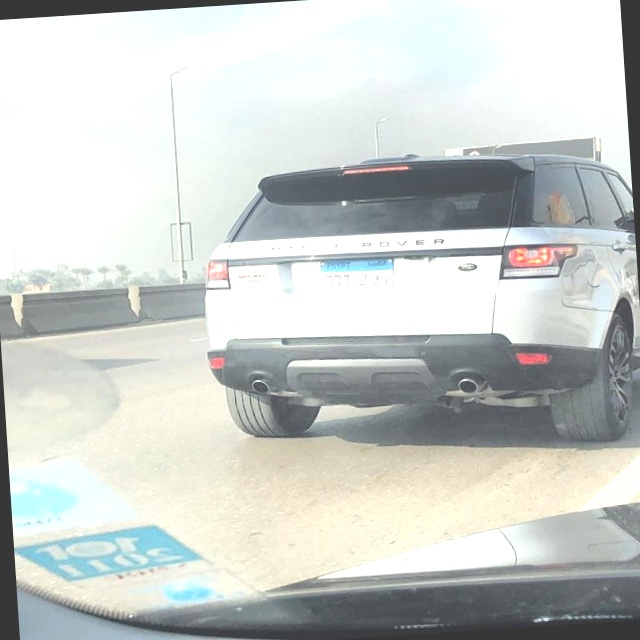License Plate: (316, 253, 398, 295)
